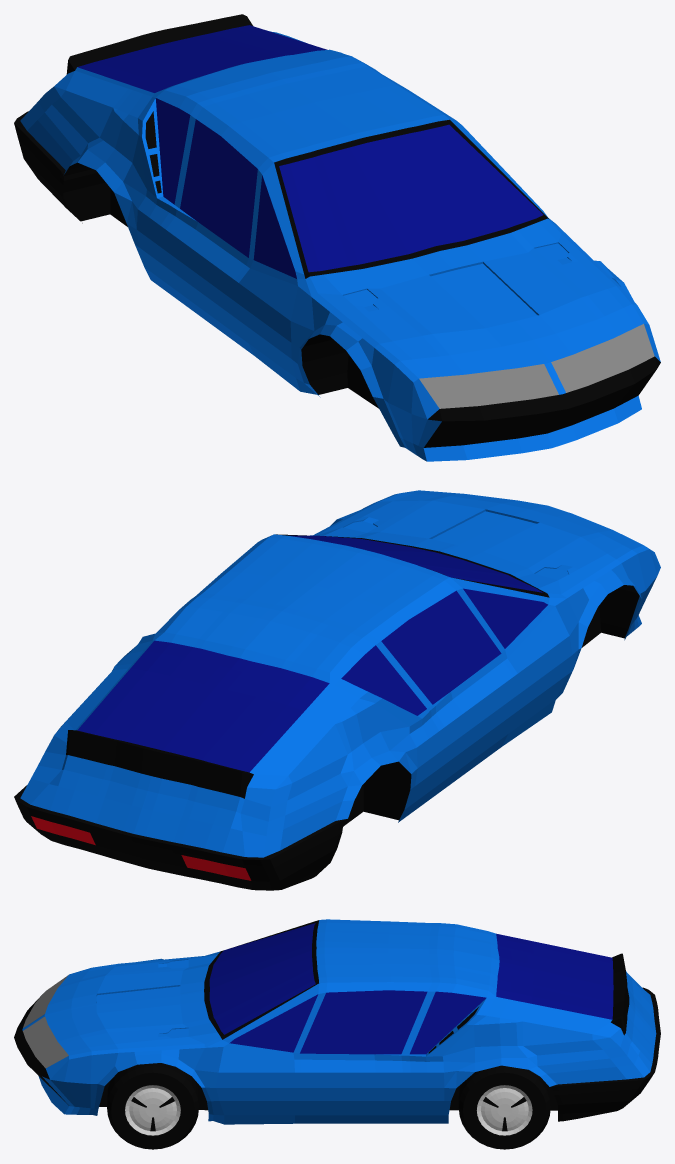
File: Renault Alpine A311.fbx
3 renders of one model, top to bottom at view 1: azimuth 30°, elevation 25°; view 2: azimuth 150°, elevation 25°; view 3: azimuth 270°, elevation 25°, orthographic. The views are drawn at different scales.
Visible parts, largest first — view 1: Plane; view 2: Plane; view 3: Plane, Cylinder, Cylinder.001.
Boxes of the visible parts, bbox=[...] form: Plane: bbox=[14, 14, 660, 461]; Plane: bbox=[14, 490, 660, 890]; Plane: bbox=[14, 919, 660, 1124]; Cylinder: bbox=[107, 1063, 198, 1149]; Cylinder.001: bbox=[458, 1065, 550, 1149].
Size of the model in its own units: 106 by 73.78 by 282.
